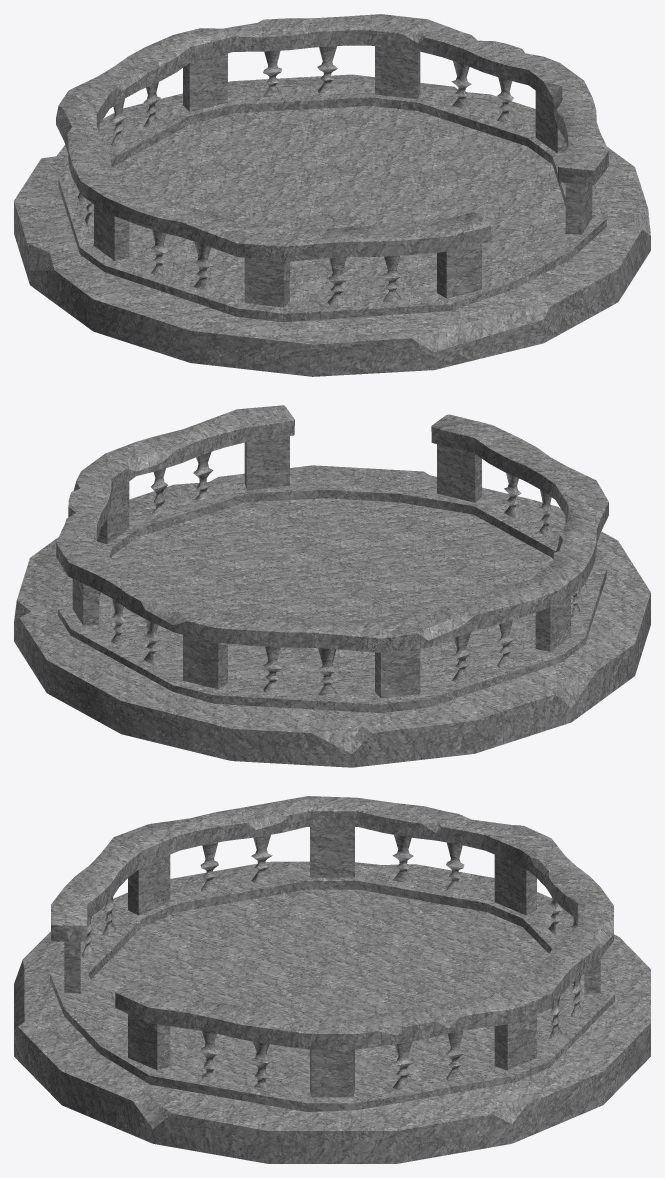
File: materials_3_base_7.fbx
3 renders of one model, top to bottom at view 1: azimuth 30°, elevation 25°; view 2: azimuth 150°, elevation 25°; view 3: azimuth 270°, elevation 25°, orthographic.
Parts seen in each view (by area): view 1: materials_3_base_7; view 2: materials_3_base_7; view 3: materials_3_base_7.
Boxes of the visible parts, bbox=[...] form: materials_3_base_7: bbox=[14, 14, 650, 376]; materials_3_base_7: bbox=[14, 405, 650, 767]; materials_3_base_7: bbox=[14, 796, 650, 1163].
Size of the model in its own units: 727 by 146 by 727.
